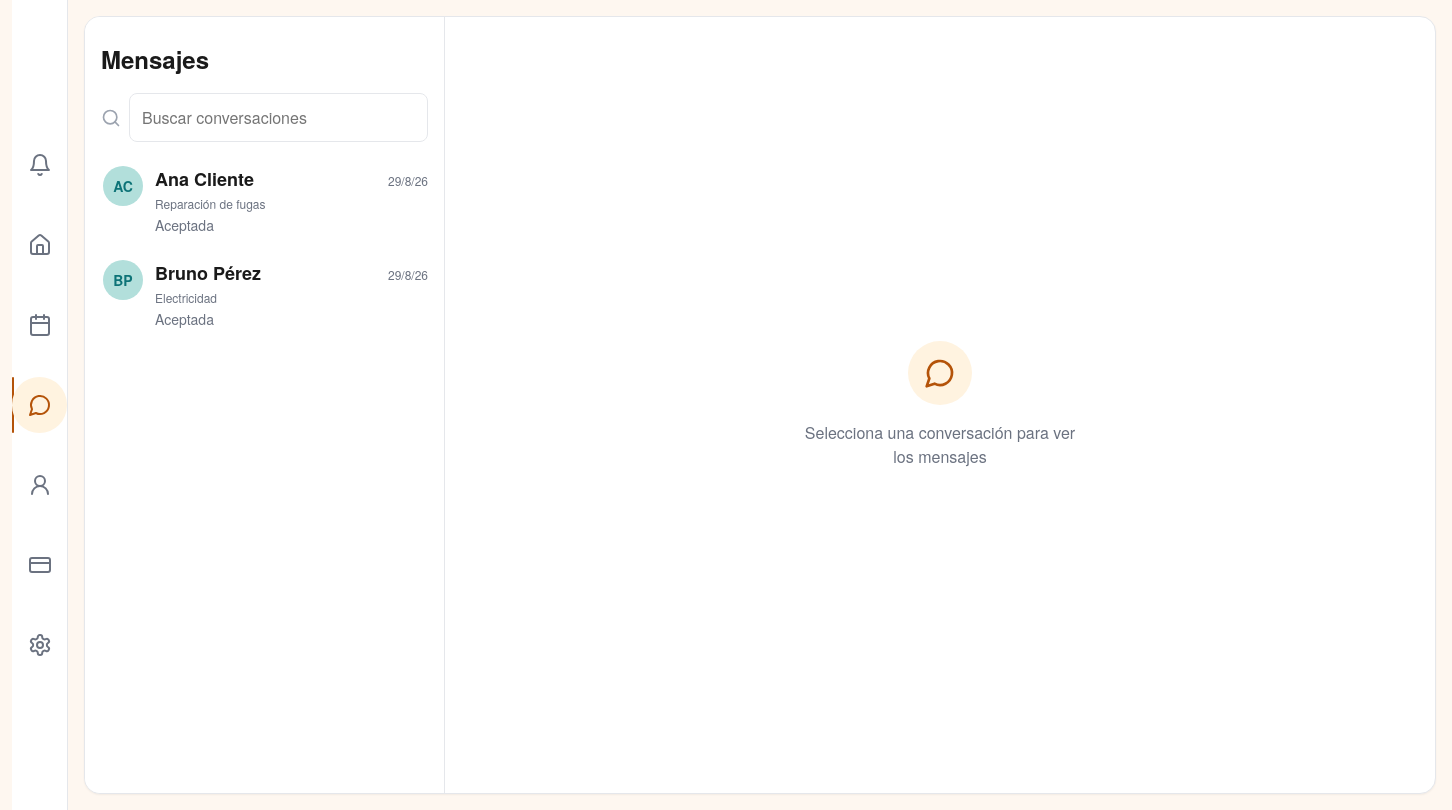
Test: Pantalla de mensajes › filtra la bandeja por nombre de la contraparte o del servicio
Check: the text "Ana Cliente" is shown, box [155,166,254,193]
Check: the text "Bruno Pérez" is shown, box [155,260,261,287]
In the search field named "Buscar conversaciones por nombre o servicio": (278,118) [129,93,428,142], type "bruno"
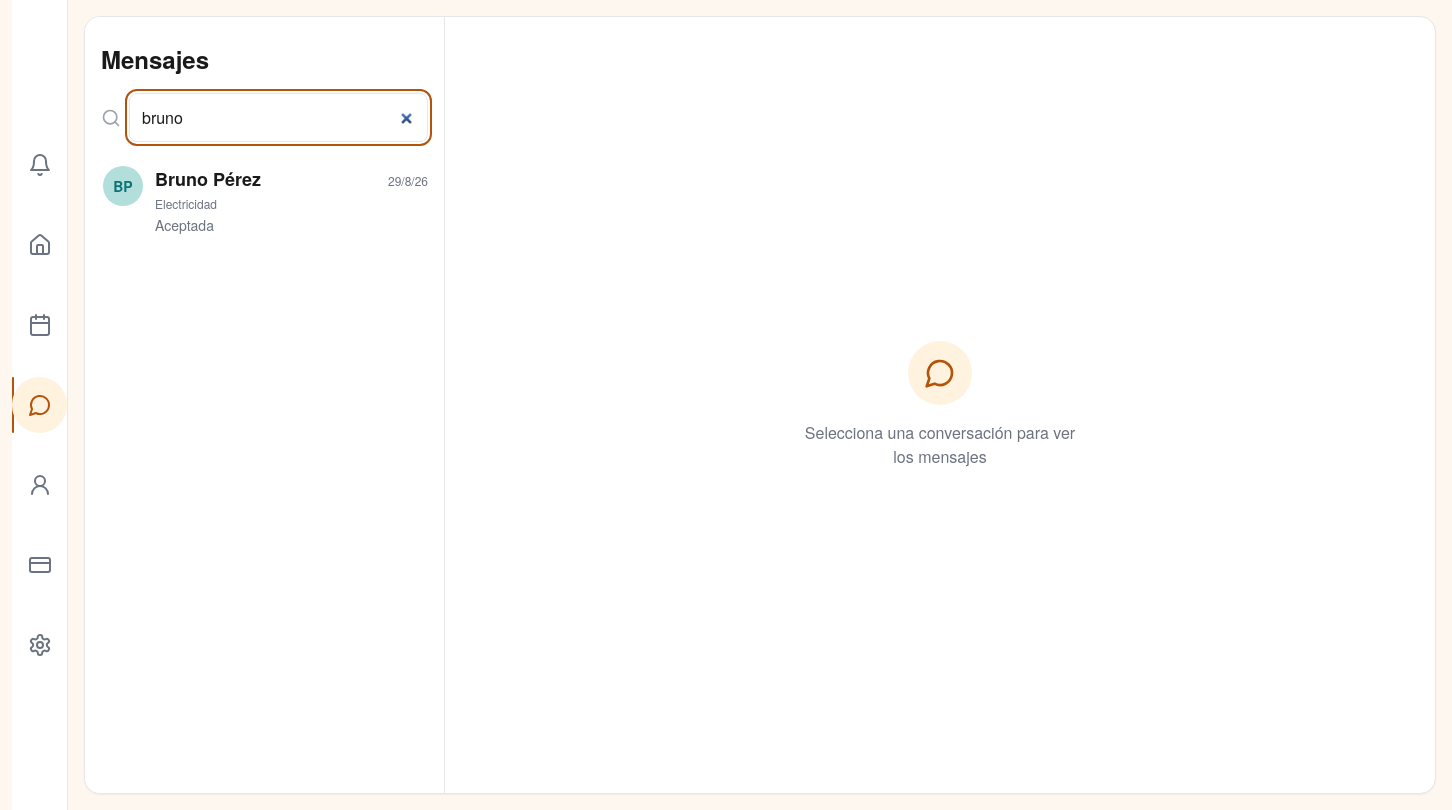
Check: the text "Bruno Pérez" is shown, box [155,166,261,193]
Check: the button "Ana Cliente" is gone
Replace the text in the search field named "Buscar conversaciones por nombre o servicio" with "fugas": (278,118) [129,93,428,142]
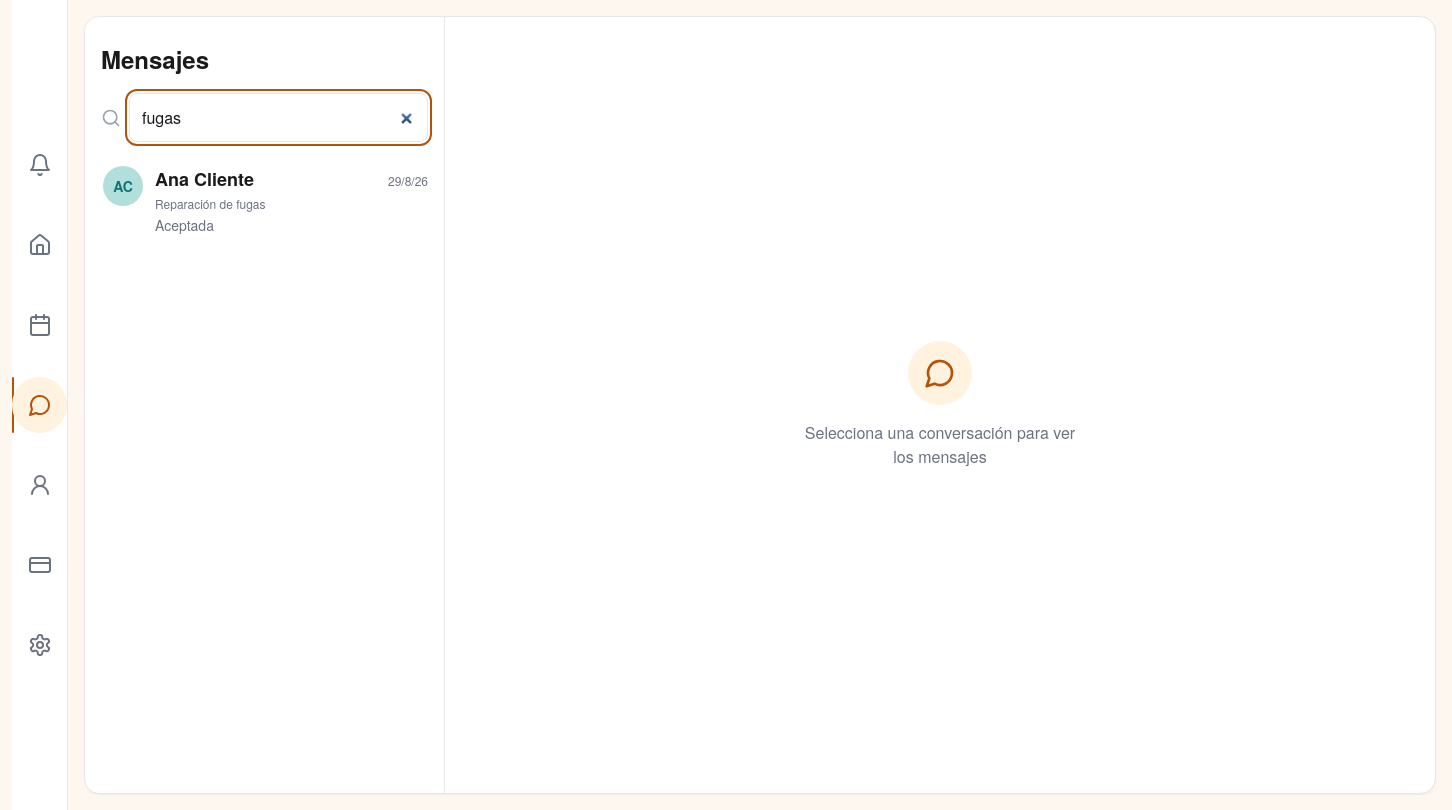
Check: the button "Bruno Pérez" is not shown
Check: the text "Ana Cliente" is shown, box [155,166,254,193]
Replace the text in the search field named "Buscar conversaciones por nombre o servicio" with "zzzz": (278,118) [129,93,428,142]
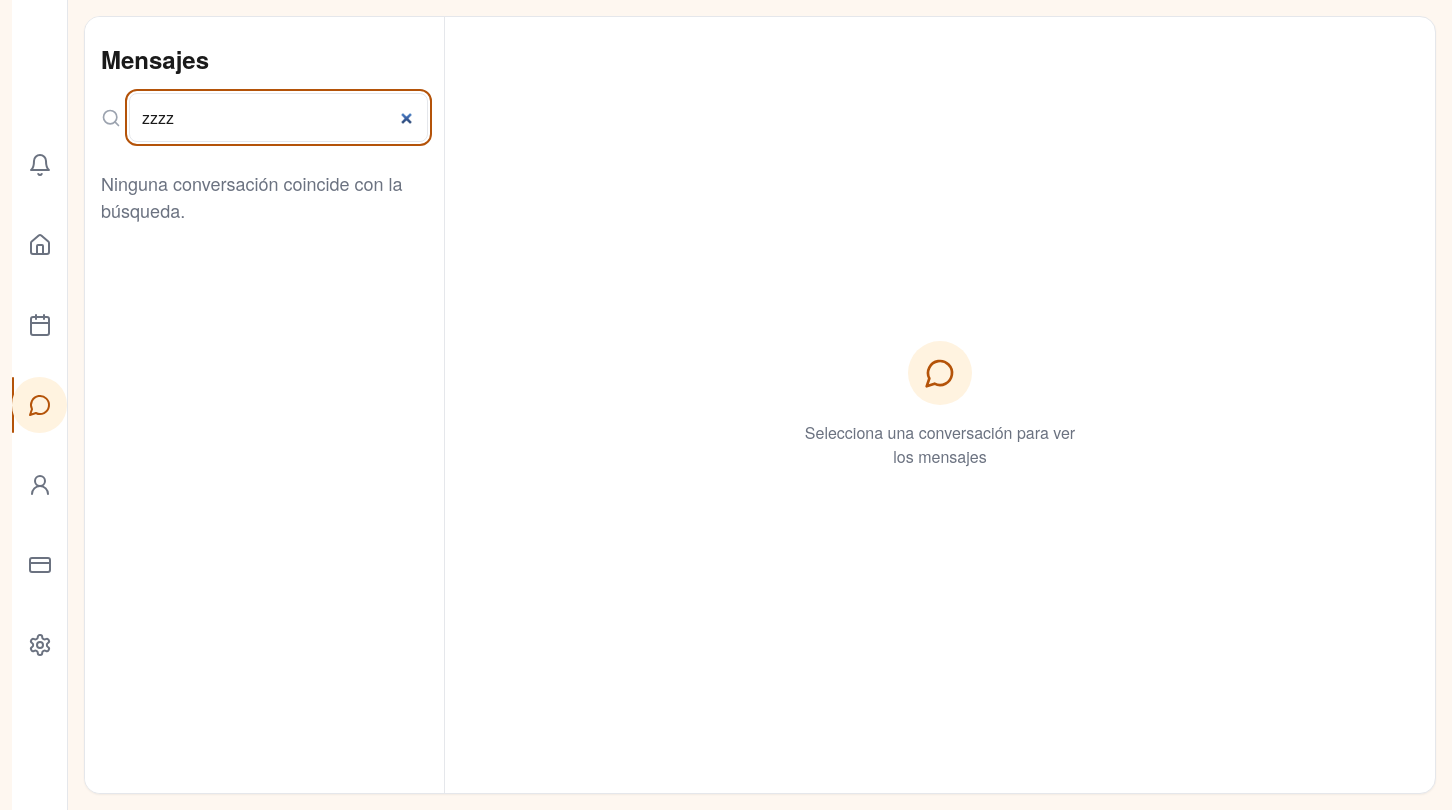
Check: the text "Ninguna conversación coincide con la búsqueda." is shown, box [101,170,403,223]
